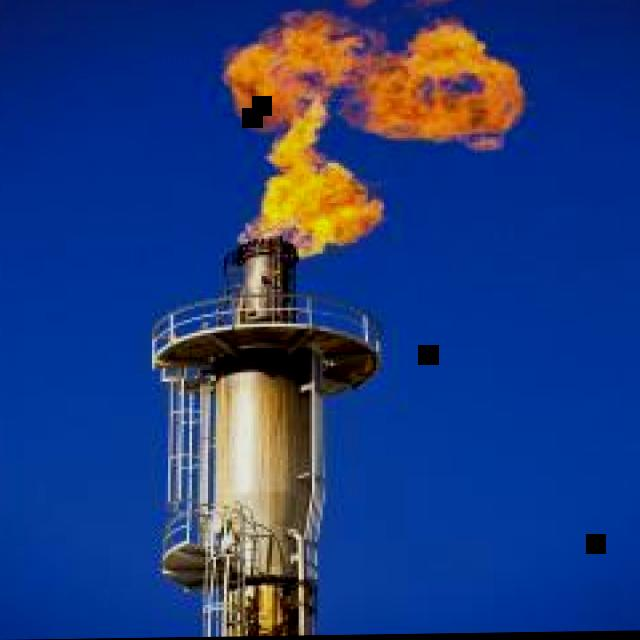fire: (223, 11, 529, 261), (410, 0, 446, 11), (347, 0, 371, 10)
